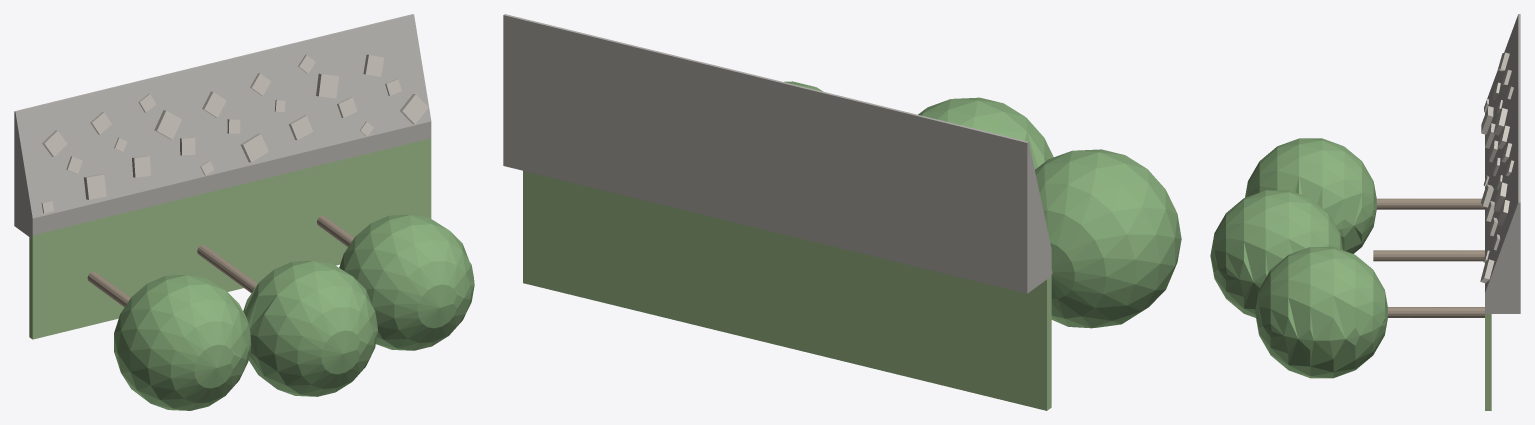
The model's file is r-116-quinsigamond-granite-riprap.glb.
The picture shows the model from 3 angles, left to right: view 1: azimuth 30°, elevation 25°; view 2: azimuth 150°, elevation 25°; view 3: azimuth 270°, elevation 25°; orthographic projection. The views are drawn at different scales.
Parts seen in each view (by area): view 1: riprap-bed, foliage, grass-top, boulders, trunks; view 2: riprap-bed, grass-top, foliage; view 3: foliage, riprap-bed, trunks, boulders, grass-top.
Boxes of the visible parts, <box> form: riprap-bed: <box>14,14,431,238</box>; foliage: <box>114,214,474,410</box>; grass-top: <box>29,138,431,339</box>; boulders: <box>41,54,428,213</box>; trunks: <box>87,216,353,307</box>; riprap-bed: <box>503,14,1051,293</box>; grass-top: <box>523,171,1051,410</box>; foliage: <box>784,81,1181,328</box>; foliage: <box>1210,138,1388,378</box>; riprap-bed: <box>1485,14,1520,313</box>; trunks: <box>1373,198,1484,317</box>; boulders: <box>1480,52,1514,283</box>; grass-top: <box>1485,314,1491,410</box>.
Size of the model in its own units: 20000 by 10955 by 13902.
